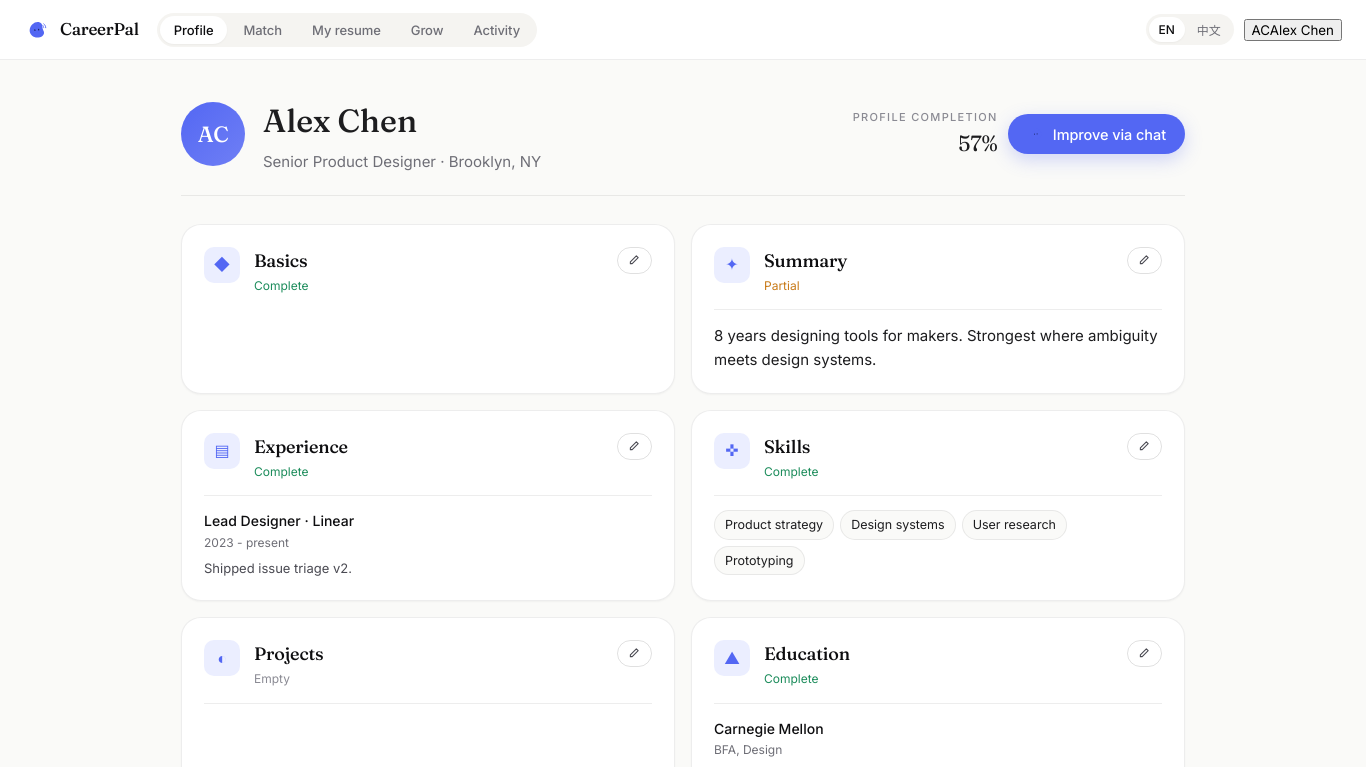
Test: Workspace › opens edit drawer from a profile card and can switch to chat improvement
Click the button named "edit" at (634, 260), box [617, 247, 652, 274]
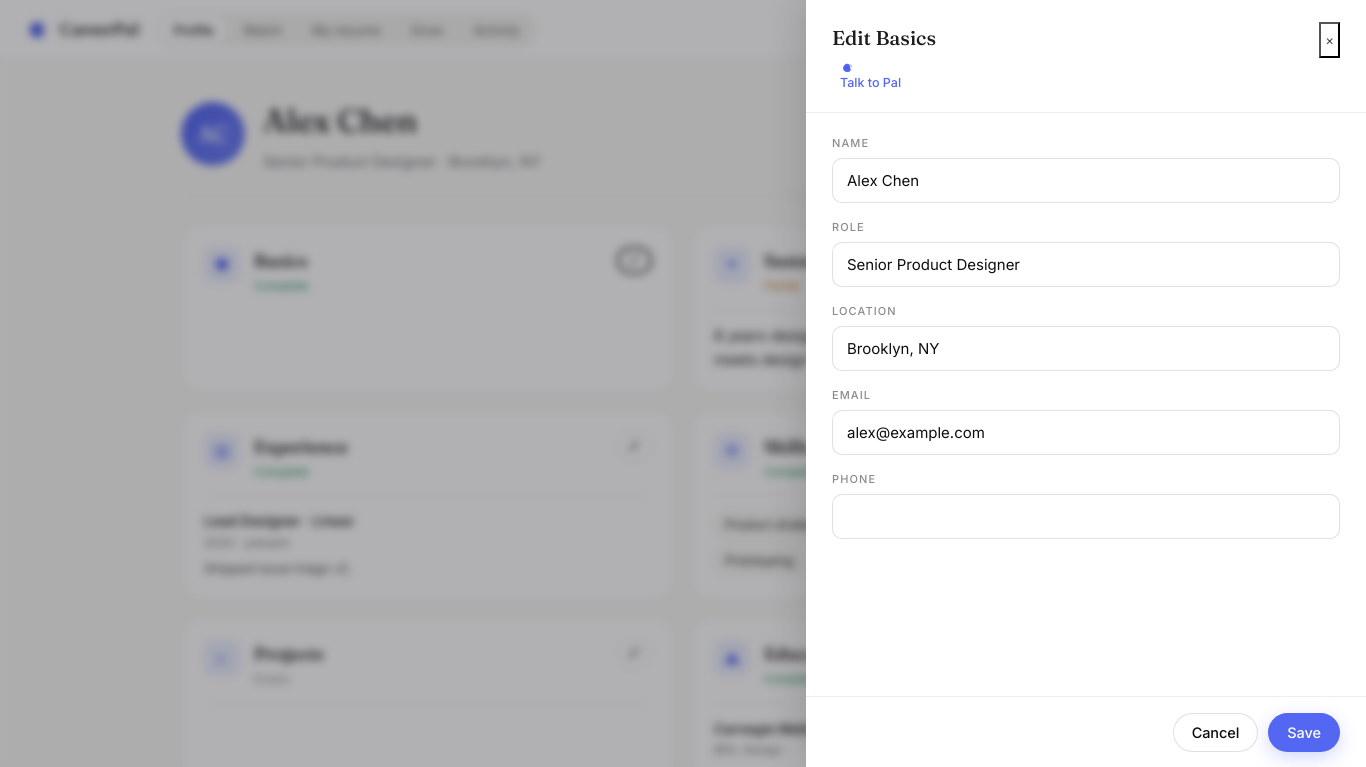
Now the text "Edit Basics" is shown, box [832, 22, 936, 53]
Click the button "Talk to Pal" at (870, 76), box [832, 57, 909, 94]
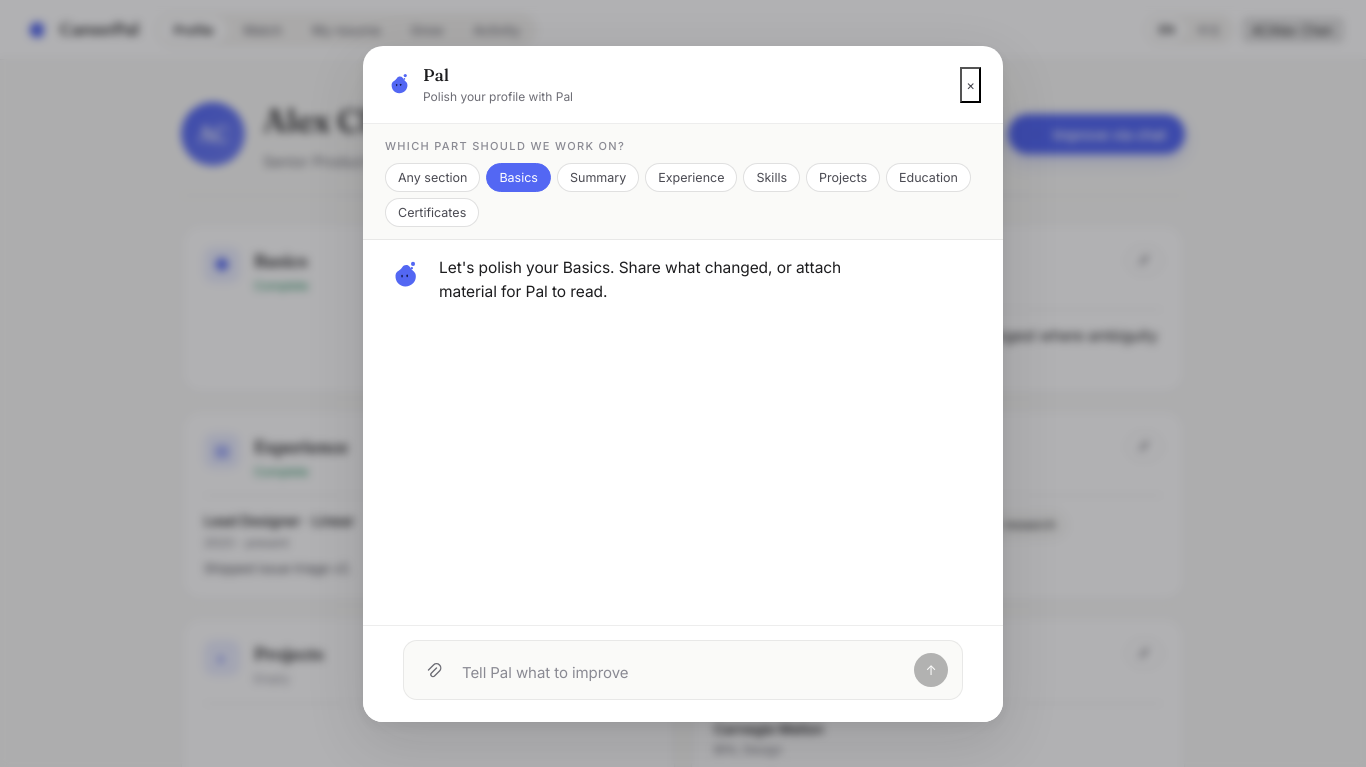
Now the text "Polish your profile with Pal" is shown, box [423, 88, 573, 107]
